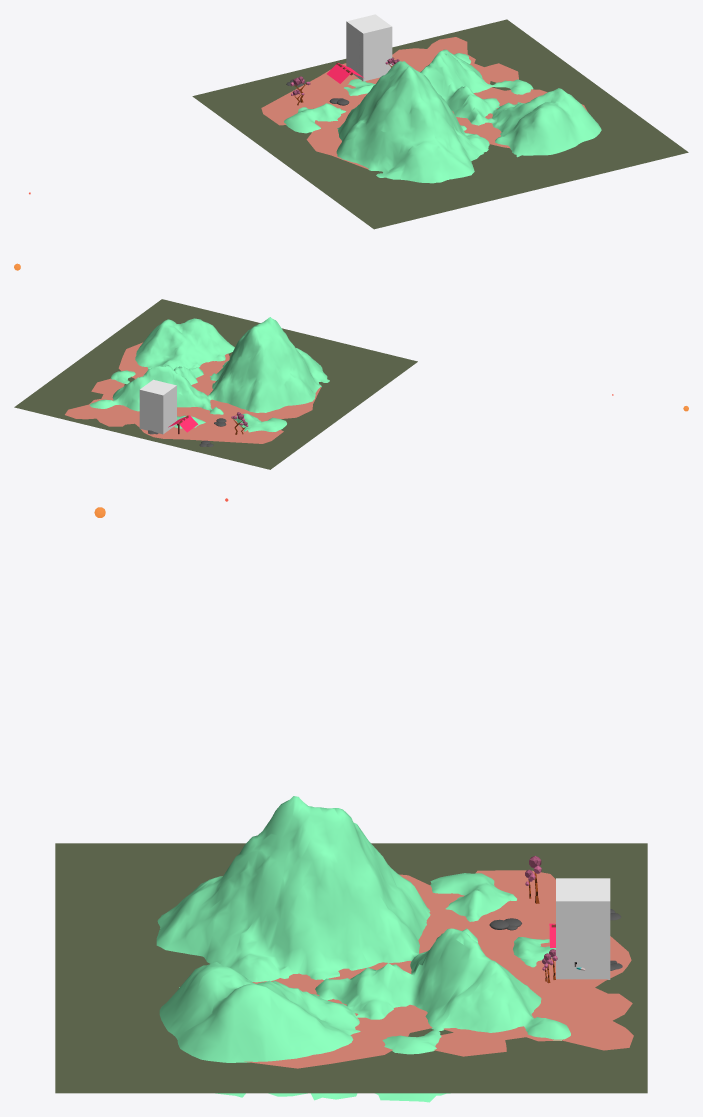
File: threeD.glb
3 views of the same model, one above another, from view 1: azimuth 30°, elevation 25°; view 2: azimuth 150°, elevation 25°; view 3: azimuth 270°, elevation 25° (orthographic). The views are drawn at different scales.
Visible parts, largest first — view 1: land, Landscape.002, Plane, Smoke Domain; view 2: land, Landscape.002, Plane, Smoke Domain; view 3: land, Landscape.002, Plane, Smoke Domain.
Part boxes in pixels (x1,y1,x2,y2): land: [192, 19, 688, 229]; Landscape.002: [284, 49, 601, 183]; Plane: [261, 37, 587, 169]; Smoke Domain: [346, 14, 392, 81]; land: [14, 299, 417, 469]; Landscape.002: [89, 317, 329, 432]; Plane: [65, 342, 320, 443]; Smoke Domain: [139, 379, 176, 434]; land: [55, 843, 647, 1093]; Landscape.002: [156, 796, 570, 1102]; Plane: [244, 870, 633, 1068]; Smoke Domain: [556, 878, 610, 979].
Size of the model in its own units: 54.57 by 8.09 by 26.02.
